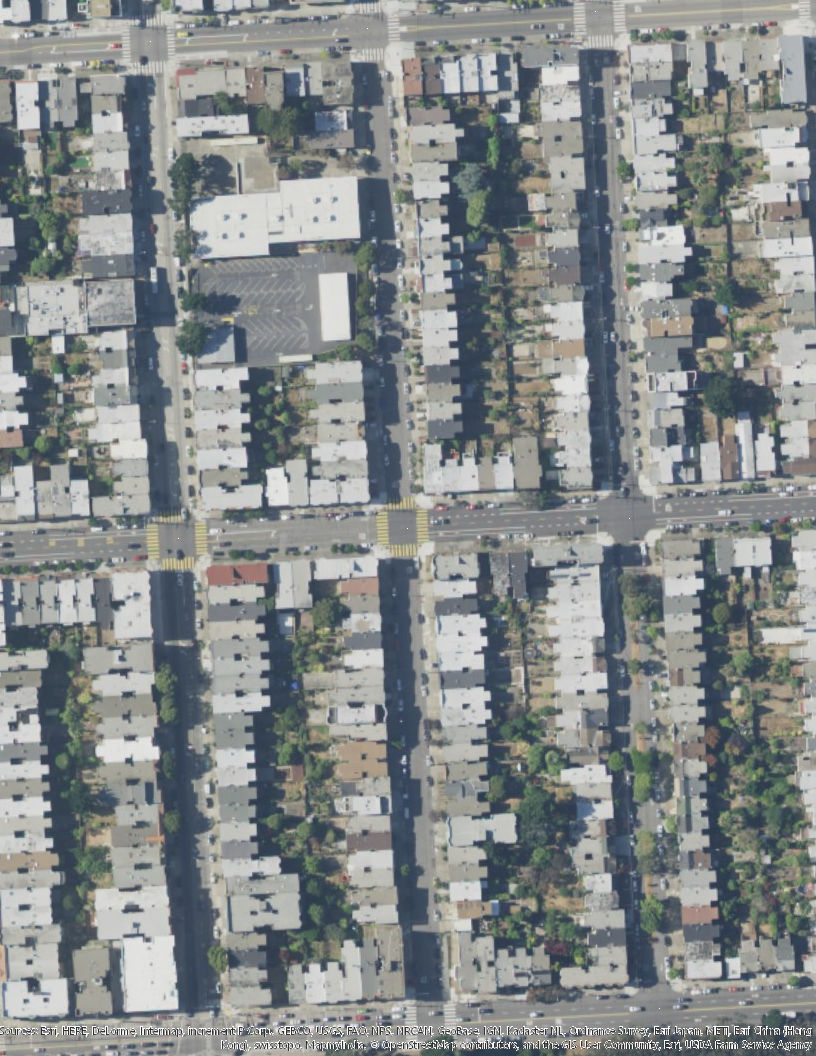zebracross: (570, 1, 588, 35), (611, 1, 629, 35), (373, 509, 389, 544), (159, 557, 195, 572), (127, 14, 165, 28), (131, 60, 166, 75), (406, 1004, 419, 1044), (388, 543, 420, 559), (154, 509, 188, 524), (193, 520, 208, 554), (145, 524, 160, 558), (387, 493, 420, 508), (416, 507, 429, 543), (442, 1003, 456, 1036), (586, 33, 618, 47), (387, 13, 402, 41), (795, 1, 812, 24), (120, 28, 132, 60), (362, 47, 386, 61), (359, 2, 382, 15), (167, 27, 176, 56)
